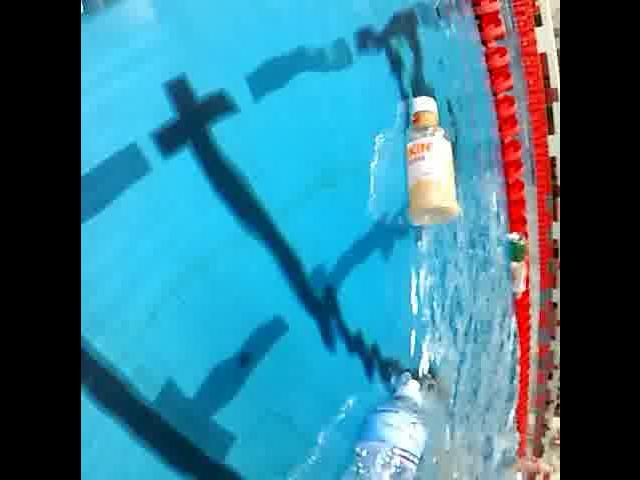Bottle: (291, 374, 436, 480), (397, 89, 462, 232), (504, 260, 530, 300)
Can: (504, 228, 528, 264)
